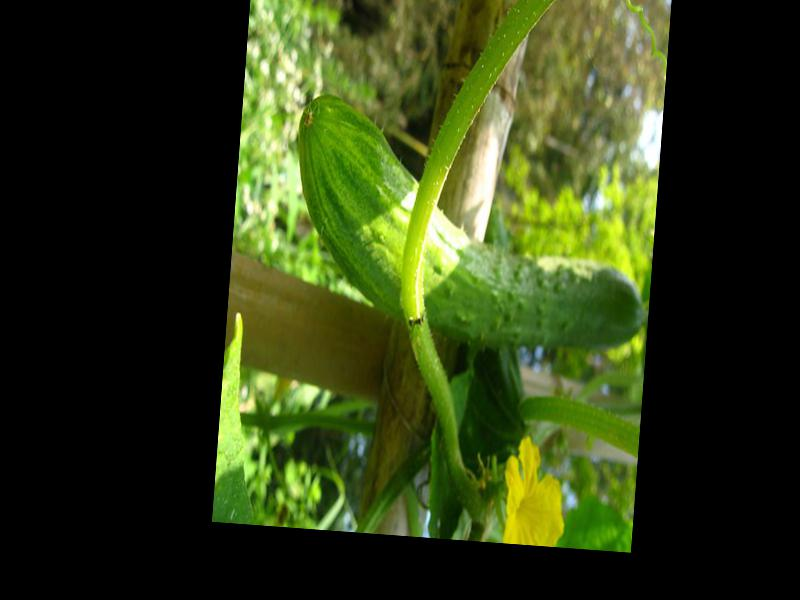Cucumber: (283, 95, 659, 356)
